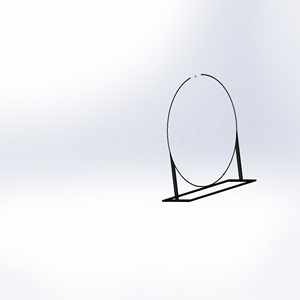circle: (161, 71, 260, 202)
